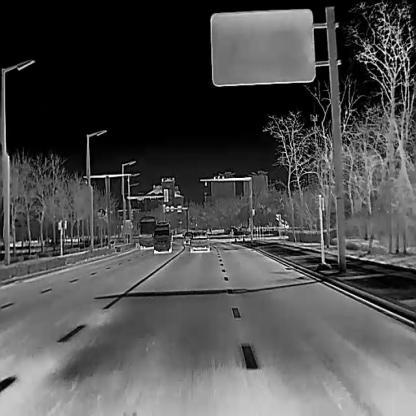car: (138, 214, 154, 248), (154, 220, 171, 250), (188, 228, 208, 251), (183, 229, 193, 244)
